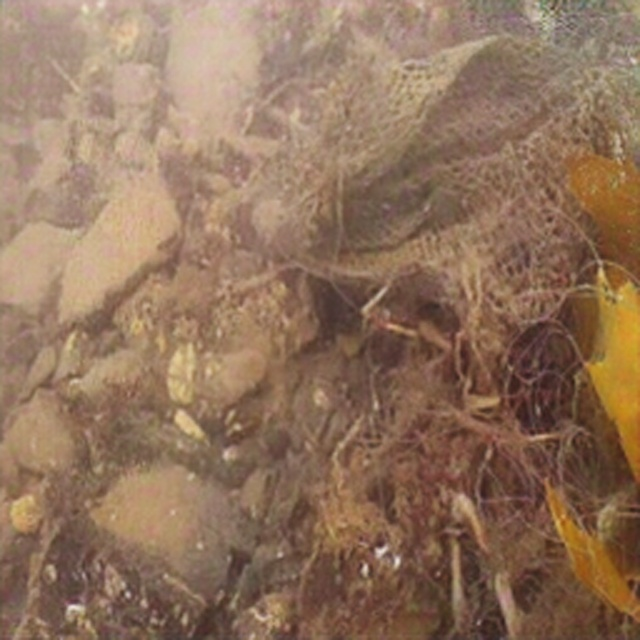mine: (272, 33, 639, 367)
